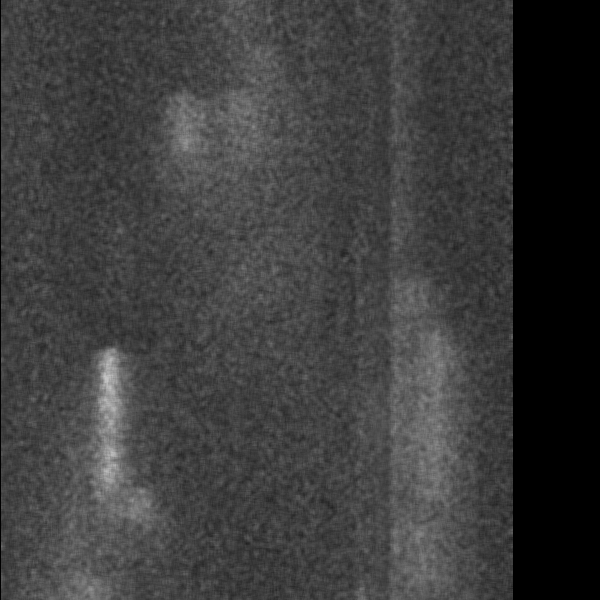spark: (85, 338, 130, 570), (163, 80, 201, 212), (237, 117, 257, 142)
